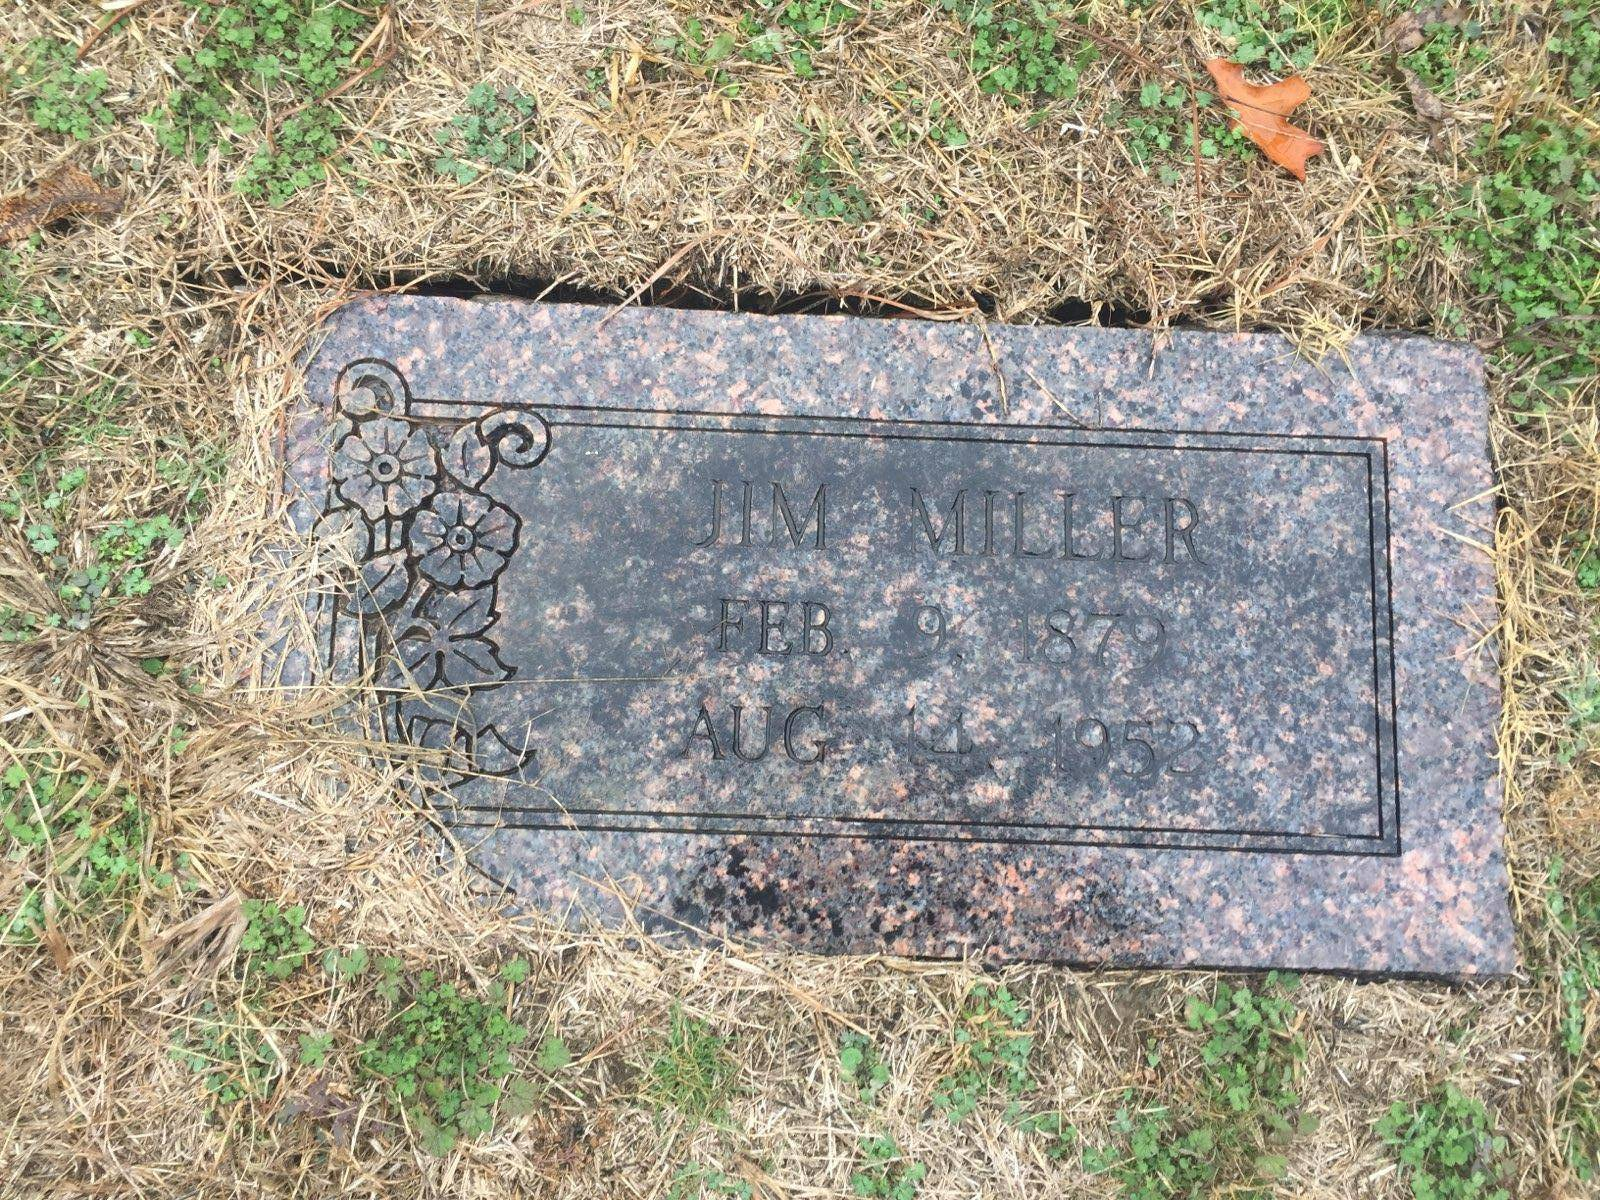flat: (179, 224, 1550, 1006)
